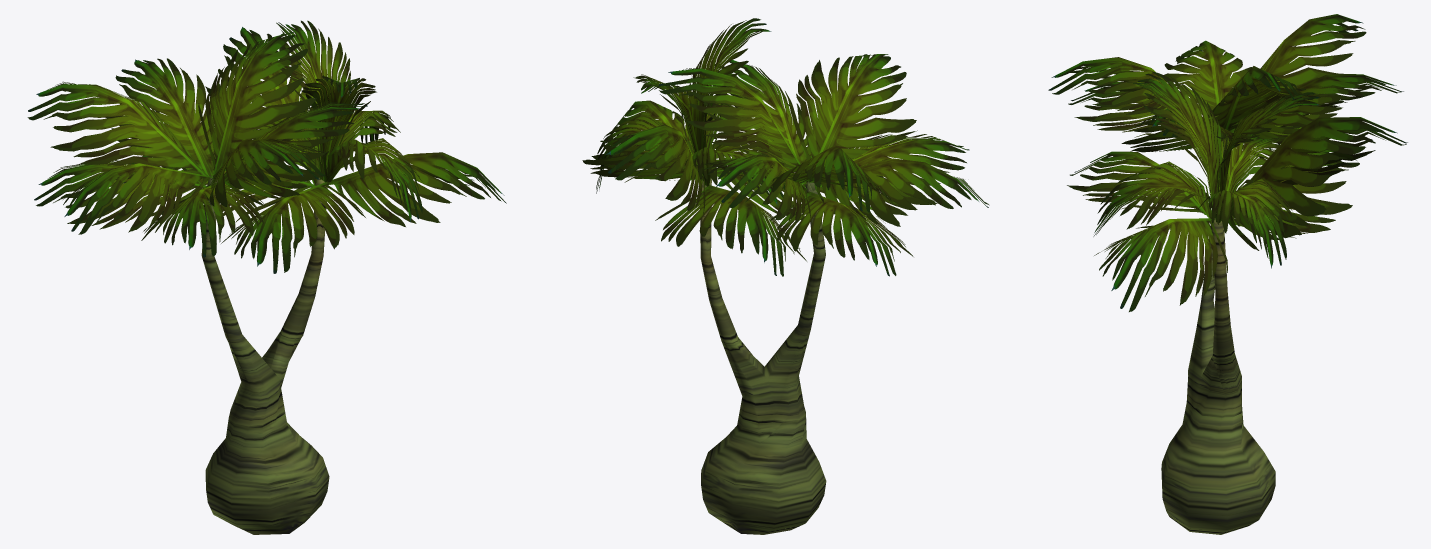
Rendered from YoungStrangeTree(SimpleMesh).fbx.
3 renders of one model, left to right at view 1: azimuth 30°, elevation 25°; view 2: azimuth 150°, elevation 25°; view 3: azimuth 270°, elevation 25°, orthographic.
Parts seen in each view (by area): view 1: YoungExoticTree01(2SideLeave); view 2: YoungExoticTree01(2SideLeave); view 3: YoungExoticTree01(2SideLeave).
Part boxes in pixels (x1,y1,x2,y2): YoungExoticTree01(2SideLeave): [27, 20, 506, 534]; YoungExoticTree01(2SideLeave): [582, 18, 989, 534]; YoungExoticTree01(2SideLeave): [1048, 14, 1407, 534].
Size of the model in its own units: 149 by 151 by 113.
